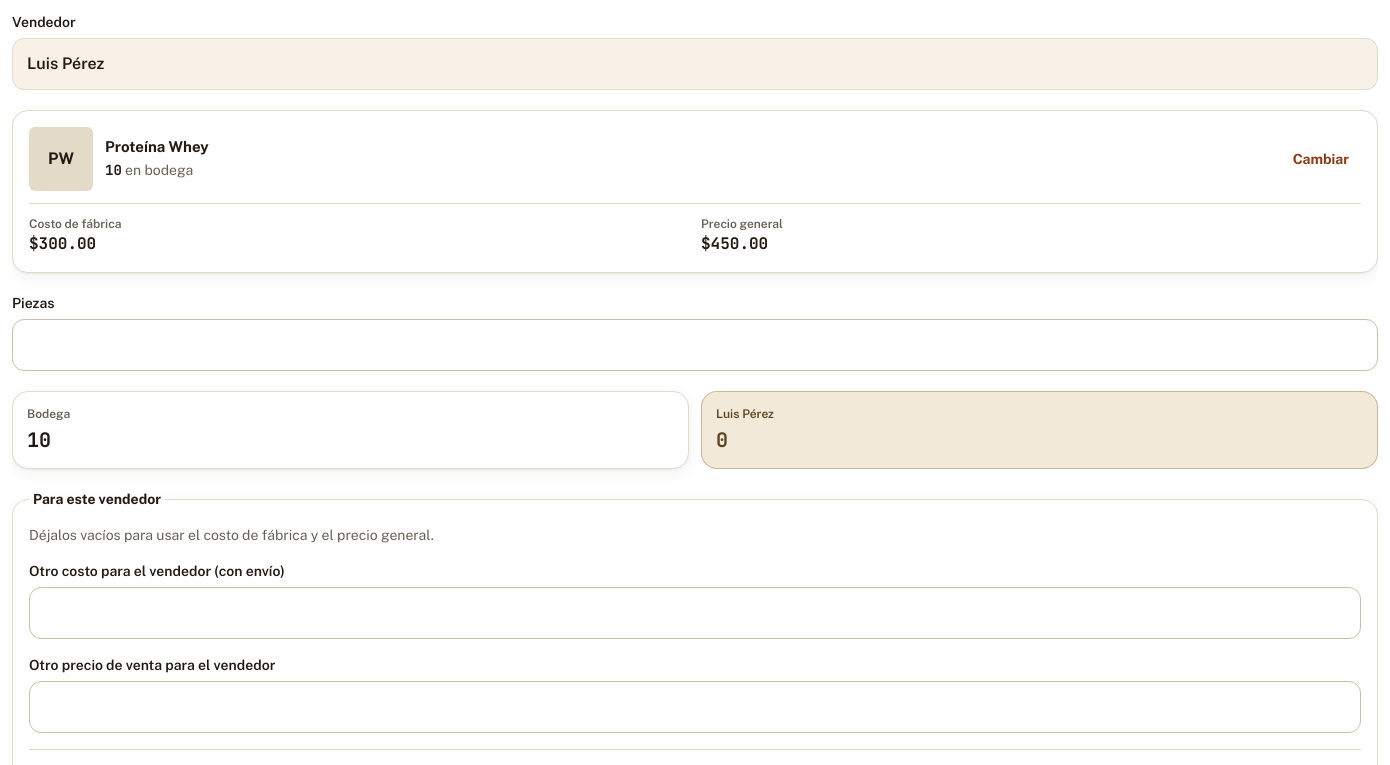
DeliveryFormComponent › la vista previa muestra bodega y vendedor antes → después y que el total no cambia
Type "6" into the field labelled "Piezas" at (695, 345), box left=12, top=319, right=1378, bottom=371
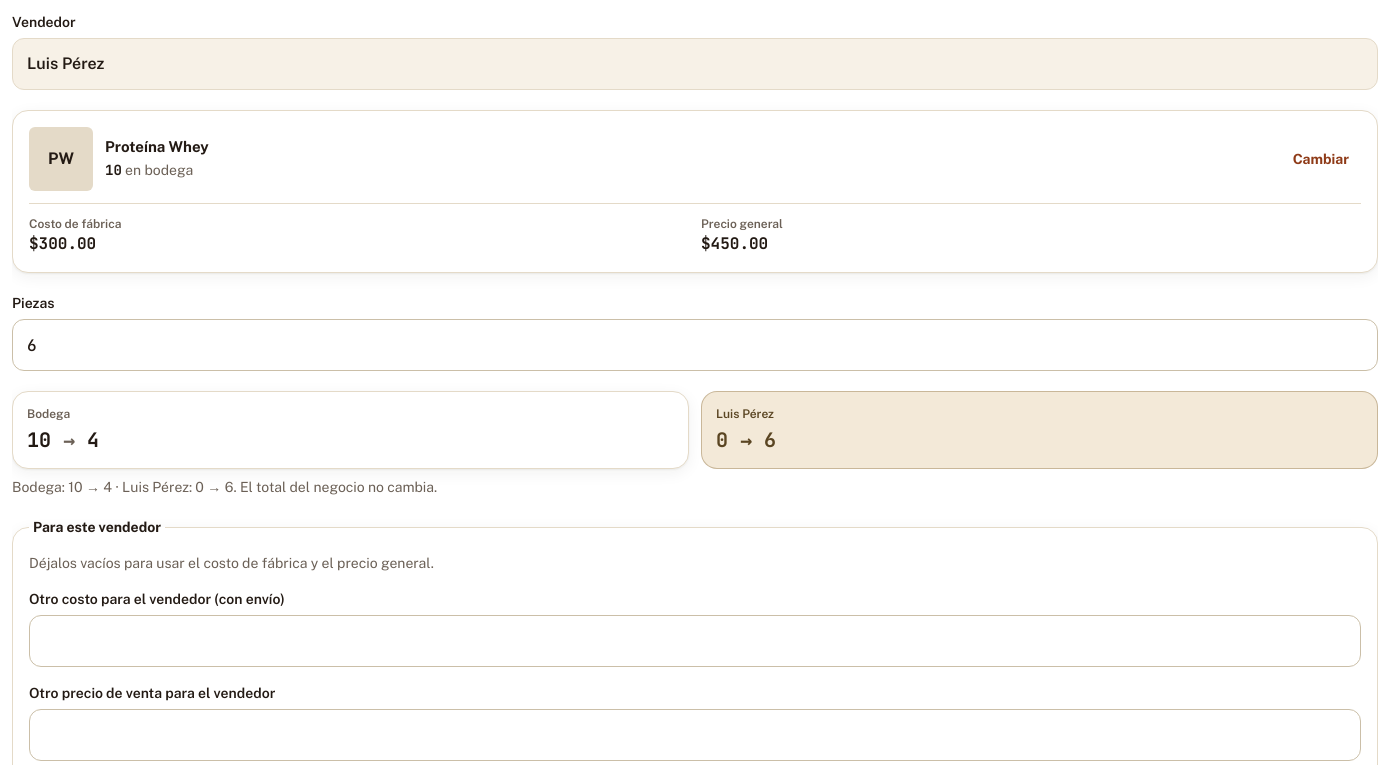
expect the text "Bodega: 10 → 4 · Luis Pérez: 0 → 6. El total del negocio no cambia." is shown: met, box left=12, top=479, right=437, bottom=495
expect the element with class "balance-warehouse" shows "4": met, box left=75, top=427, right=99, bottom=453
